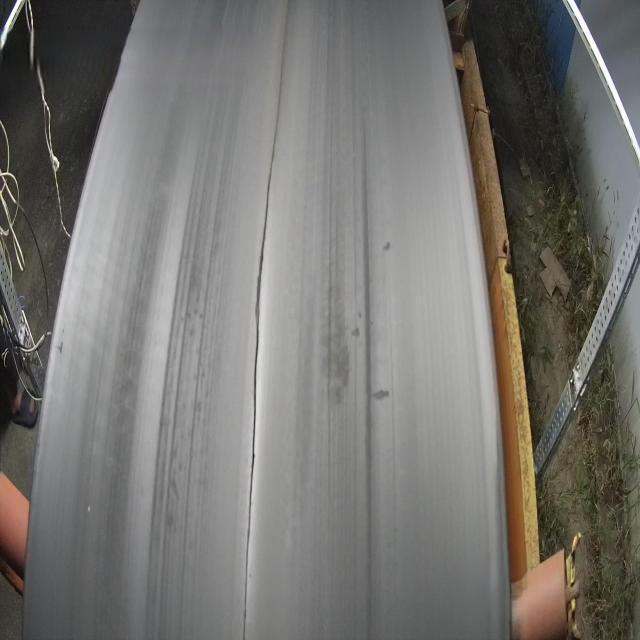Tear: (234, 0, 298, 640)
